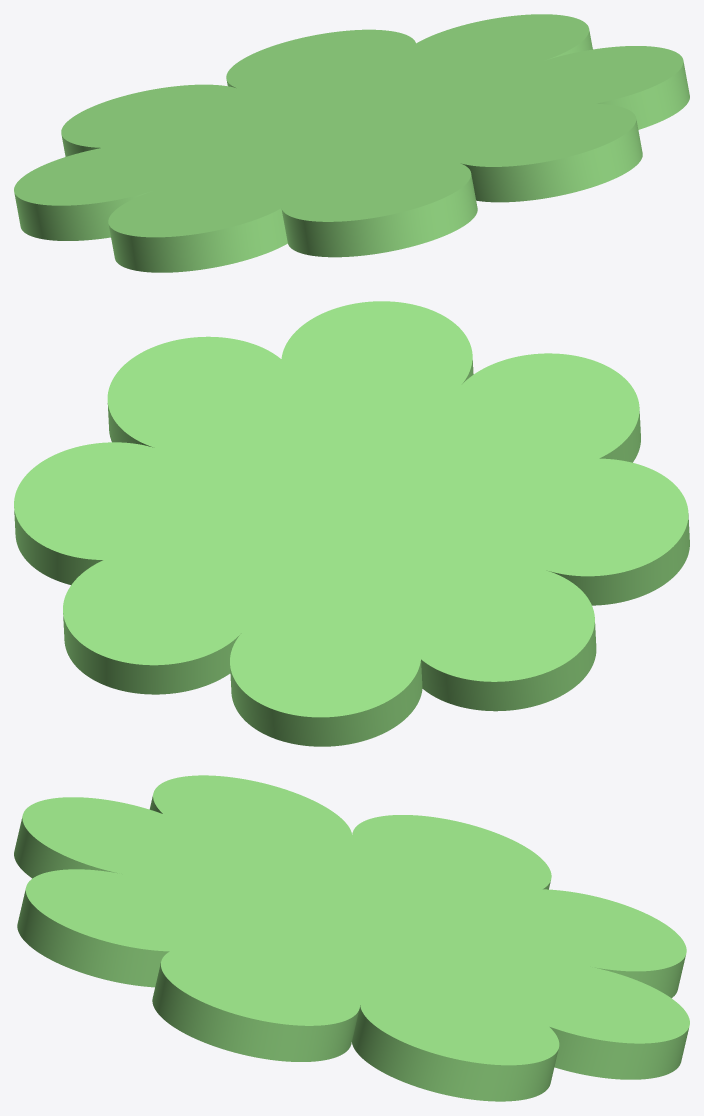
File: 유아정.gltf
3 renders of one model, top to bottom at view 1: azimuth 30°, elevation 25°; view 2: azimuth 150°, elevation 25°; view 3: azimuth 270°, elevation 25°, orthographic. The views are drawn at different scales.
Visible parts, largest first — view 1: Merge2-MI_Hot_Blued_Steel_shlaednc_4K; view 2: Merge2-MI_Hot_Blued_Steel_shlaednc_4K; view 3: Merge2-MI_Hot_Blued_Steel_shlaednc_4K.
Part boxes in pixels (x1=…): Merge2-MI_Hot_Blued_Steel_shlaednc_4K: x1=14, y1=14, x2=689, y2=272; Merge2-MI_Hot_Blued_Steel_shlaednc_4K: x1=14, y1=301, x2=689, y2=746; Merge2-MI_Hot_Blued_Steel_shlaednc_4K: x1=14, y1=775, x2=689, y2=1101.
Size of what is drawn, in the model's own units: 0.4326 by 0.128 by 0.4294.
